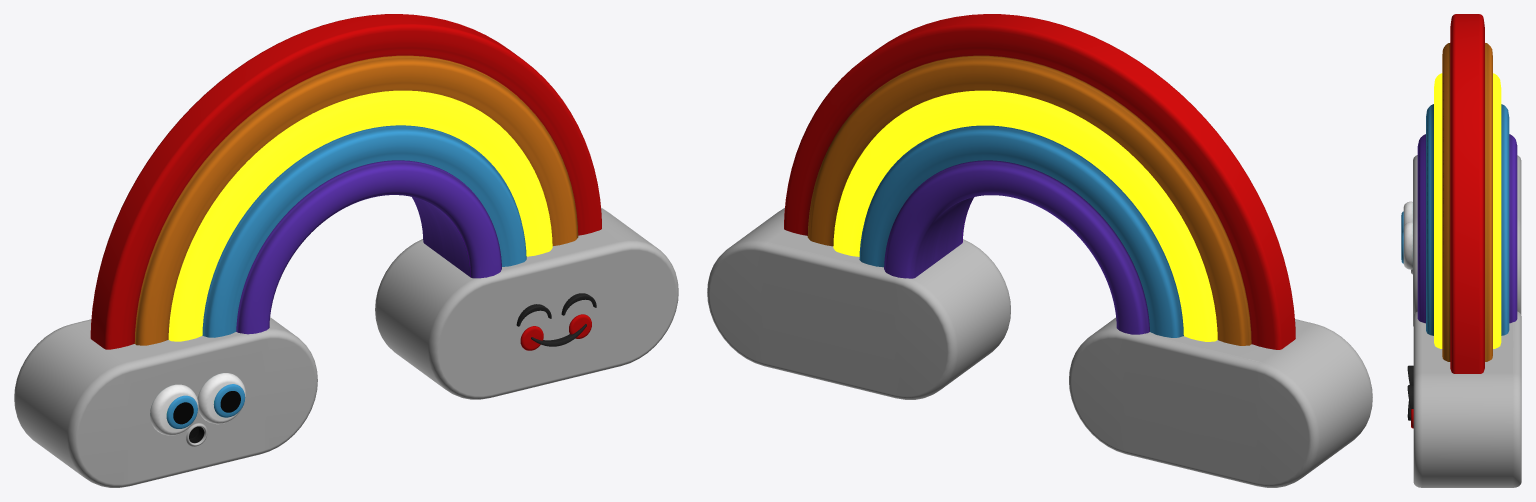
The model's file is PersonifiedRainbow.glb.
The picture shows the model from 3 angles, left to right: view 1: azimuth 30°, elevation 25°; view 2: azimuth 150°, elevation 25°; view 3: azimuth 270°, elevation 25°; orthographic projection. The views are drawn at different scales.
Visible parts, largest first — view 1: personified_rainbow.1; view 2: personified_rainbow.1; view 3: personified_rainbow.1.
Boxes of the visible parts, <box> form: personified_rainbow.1: <box>14,14,678,487</box>; personified_rainbow.1: <box>707,14,1372,487</box>; personified_rainbow.1: <box>1401,14,1521,487</box>.
Size of the model in its own units: 0.3894 by 0.2321 by 0.0749.
1 material, 1 textured.
